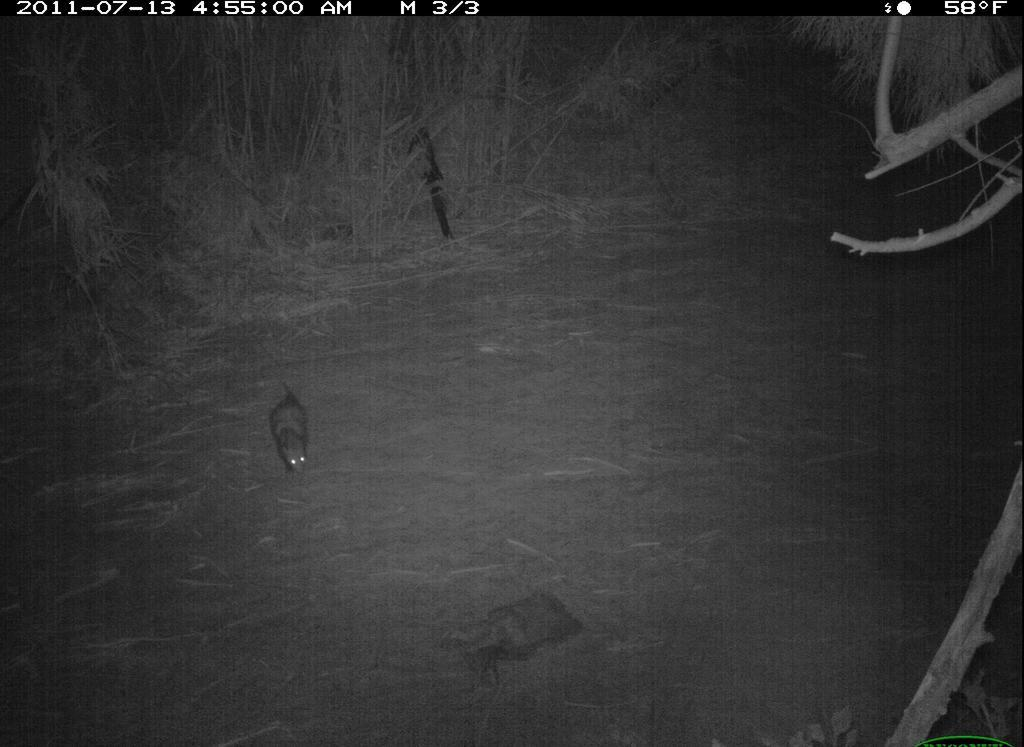opossum: (262, 379, 328, 493)
